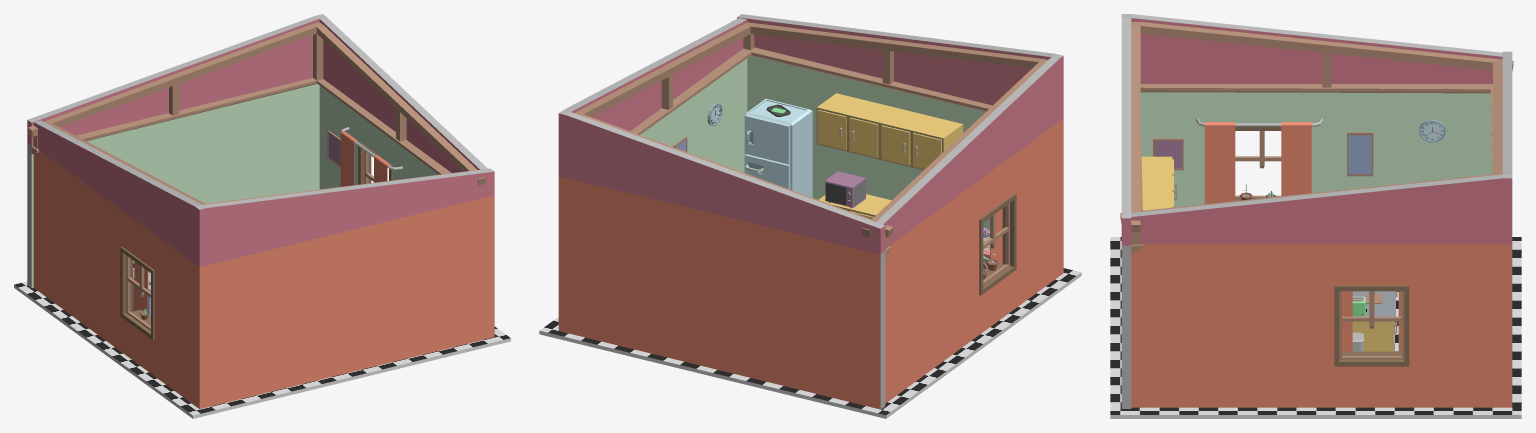
The model's file is kitchenComplete.glb.
3 views of the same model, side by side, from view 1: azimuth 30°, elevation 25°; view 2: azimuth 150°, elevation 25°; view 3: azimuth 270°, elevation 25° (orthographic). The views are drawn at different scales.
Visible parts, largest first — view 1: Wall, Wall.001, Floor, Winow, Winow.001; view 2: Wall.001, Wall, Sink.001, Floor, Refrigerator, Winow, Oven, Sink.004; view 3: Wall.001, Wall, Floor, Winow, Winow.001, Painting, Sink, Sink.001, Circle.001.
Part boxes in pixels (<box>): Wall: <box>33,120,494,408</box>; Wall.001: <box>27,14,487,288</box>; Floor: <box>14,263,510,418</box>; Winow: <box>120,246,154,340</box>; Winow.001: <box>340,127,402,186</box>; Wall.001: <box>558,18,893,409</box>; Wall: <box>731,14,1063,403</box>; Sink.001: <box>816,93,962,170</box>; Floor: <box>539,268,1081,418</box>; Refrigerator: <box>744,99,812,197</box>; Winow: <box>979,193,1016,295</box>; Oven: <box>825,171,865,208</box>; Sink.004: <box>819,194,891,219</box>; Wall.001: <box>1120,51,1512,407</box>; Wall: <box>1121,14,1513,408</box>; Floor: <box>1110,237,1521,418</box>; Winow: <box>1196,118,1323,204</box>; Winow.001: <box>1334,285,1409,366</box>; Painting: <box>1153,132,1373,176</box>; Sink: <box>1352,291,1397,351</box>; Sink.001: <box>1141,156,1176,210</box>; Circle.001: <box>1419,120,1445,142</box>.
Bounding box in the file's own units: 9.84 × 6 × 9.6.
Materials: 2 (2 with a texture image).
